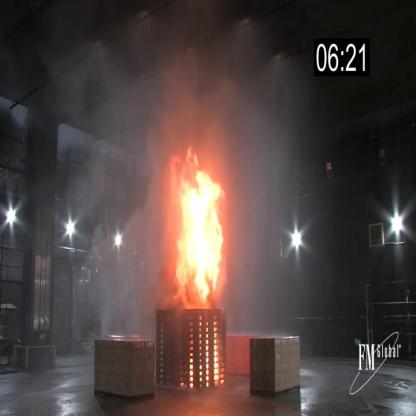fire: (170, 147, 227, 306)
